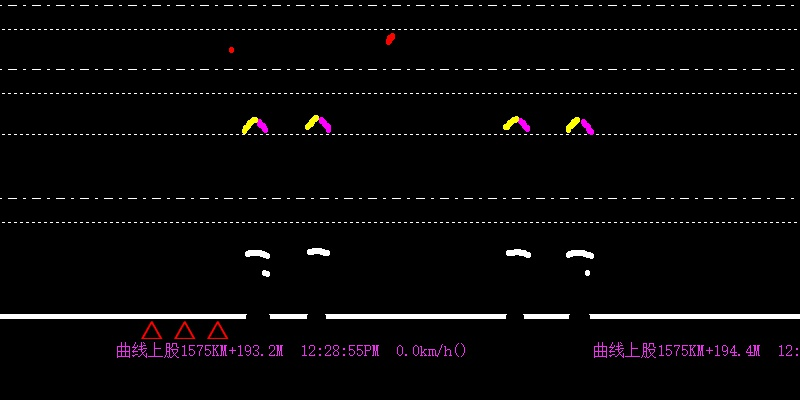L: (232, 108, 603, 269)
face_down: (384, 24, 396, 47)
